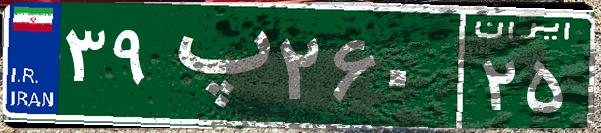0: (385, 28, 445, 110)
2: (273, 28, 330, 110), (475, 38, 525, 113)
3: (57, 26, 110, 107)
5: (525, 38, 570, 115)
6: (330, 28, 385, 110)
9: (110, 28, 158, 105)
پ: (158, 15, 273, 115)
